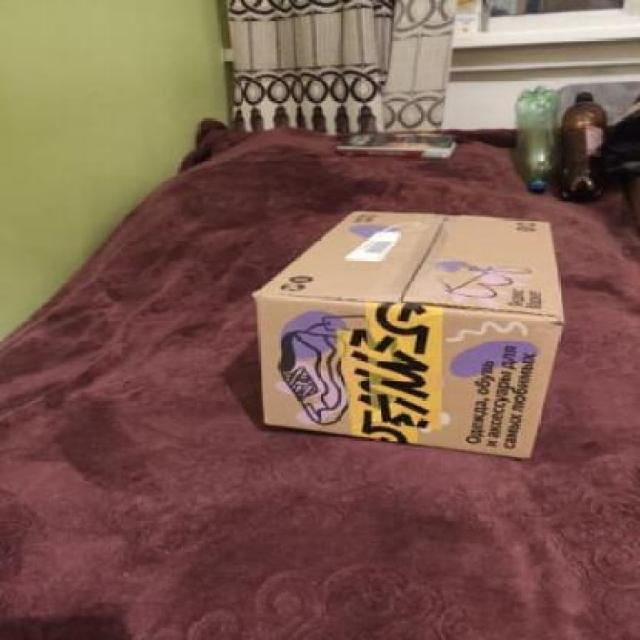box: (256, 201, 568, 464)
